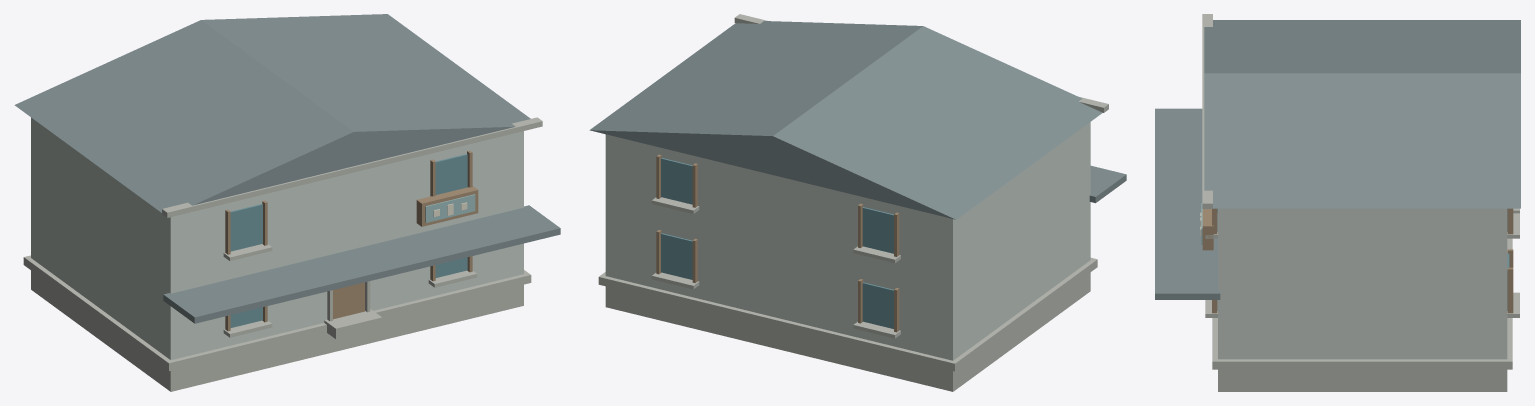
Rendered from shed-1.glb.
The picture shows the model from 3 angles, left to right: view 1: azimuth 30°, elevation 25°; view 2: azimuth 150°, elevation 25°; view 3: azimuth 270°, elevation 25°; orthographic projection. The views are drawn at different scales.
Bounding box in the file's own units: 7.44 × 4.2 × 6.07.
